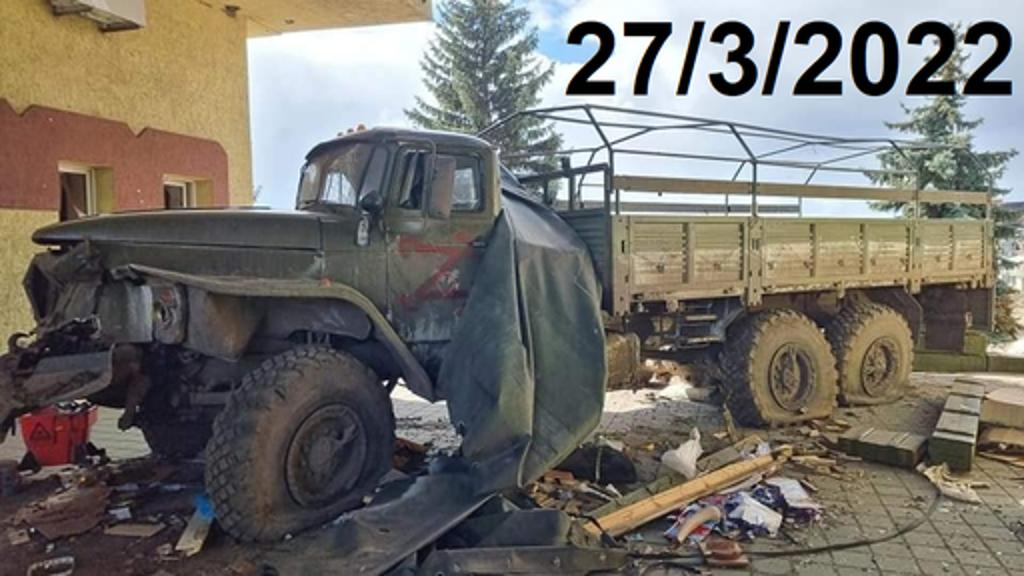TRUCK: (0, 94, 996, 550)
